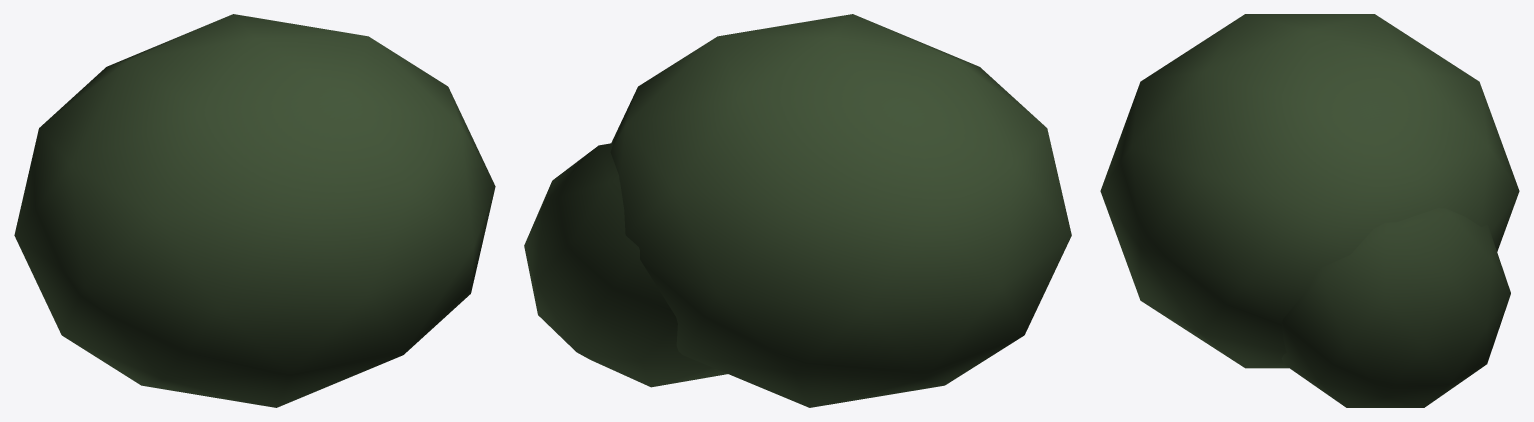
The model's file is scatter1.fbx.
3 renders of one model, left to right at view 1: azimuth 30°, elevation 25°; view 2: azimuth 150°, elevation 25°; view 3: azimuth 270°, elevation 25°, orthographic. The views are drawn at different scales.
Parts seen in each view (by area): view 1: a2000/400/scatter1; view 2: a2000/400/scatter1; view 3: a2000/400/scatter1.
Part boxes in pixels (<box>): a2000/400/scatter1: <box>14,14,495,407</box>; a2000/400/scatter1: <box>524,14,1071,407</box>; a2000/400/scatter1: <box>1100,14,1519,407</box>.
Bounding box in the file's own units: 1.15 × 0.84 × 1.
